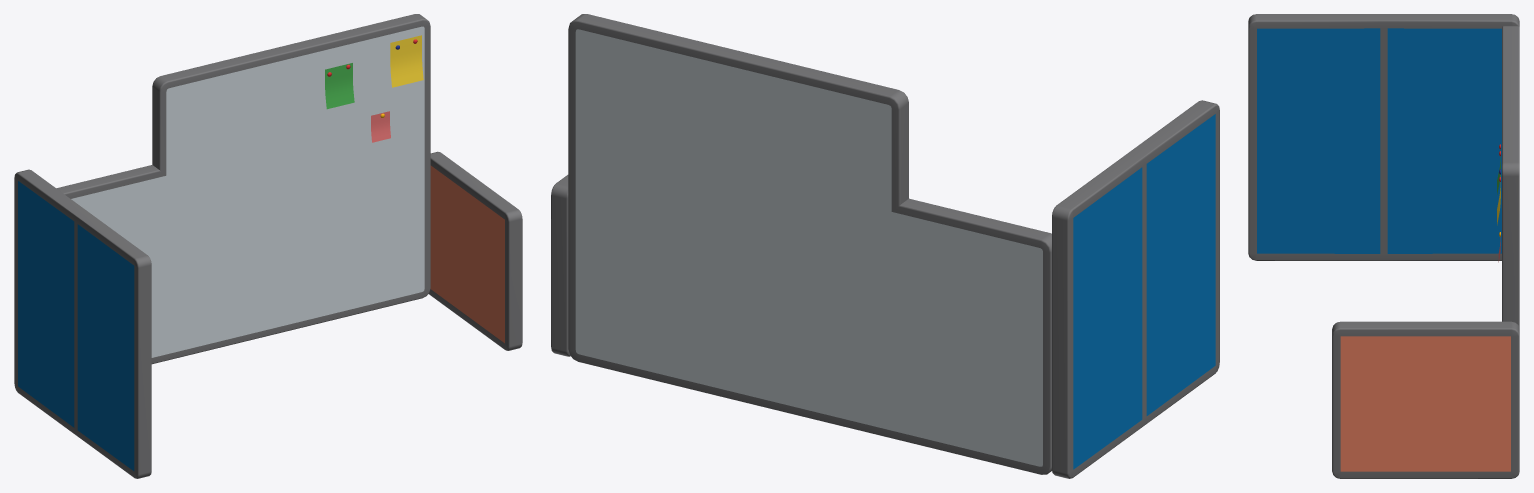
Rendered from Corwd_Cabin_01.fbx.
3 views of the same model, side by side, from view 1: azimuth 30°, elevation 25°; view 2: azimuth 150°, elevation 25°; view 3: azimuth 270°, elevation 25° (orthographic). The views are drawn at different scales.
Visible parts, largest first — view 1: Corwd_Cabin_02; view 2: Corwd_Cabin_02; view 3: Corwd_Cabin_02.
Part boxes in pixels (x1,y1,x2,y2): Corwd_Cabin_02: (14,14,522,478); Corwd_Cabin_02: (551,14,1219,478); Corwd_Cabin_02: (1248,14,1519,478).
Size of the model in its own units: 557 by 351 by 283.
